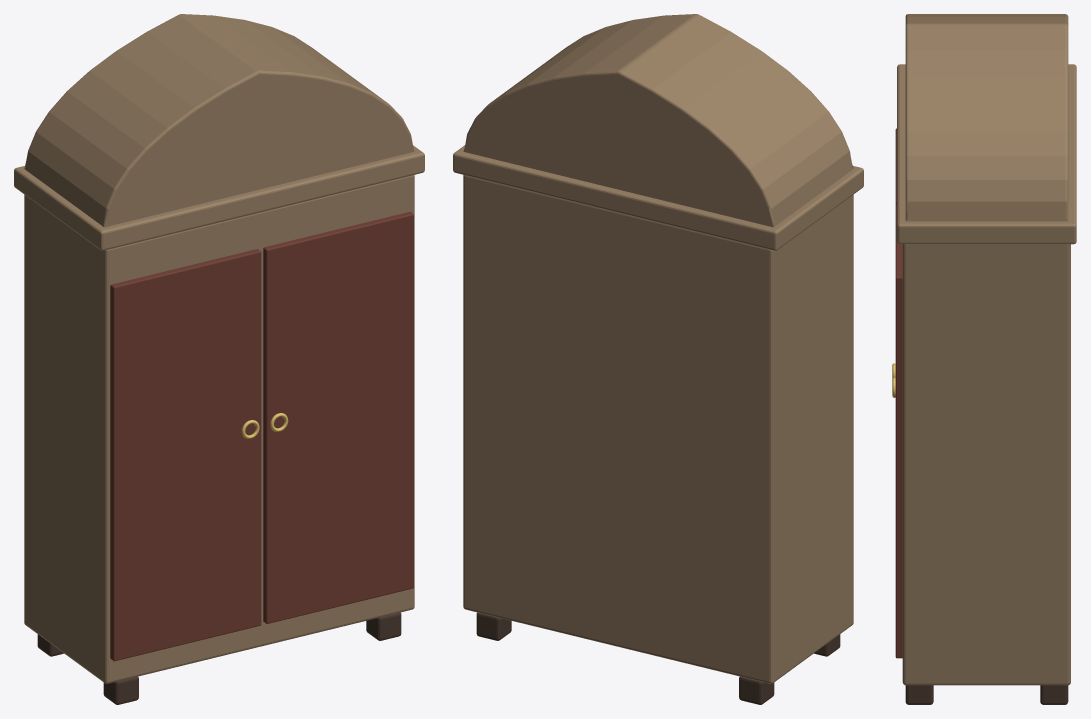
File: wardrobe_plain_tall.glb
The picture shows the model from 3 angles, left to right: view 1: azimuth 30°, elevation 25°; view 2: azimuth 150°, elevation 25°; view 3: azimuth 270°, elevation 25°; orthographic projection.
Visible parts, largest first — view 1: GD_wardrobe_plain_tall__m0, GD_wardrobe_plain_tall__m3, GD_wardrobe_plain_tall__m2; view 2: GD_wardrobe_plain_tall__m0, GD_wardrobe_plain_tall__m2; view 3: GD_wardrobe_plain_tall__m0, GD_wardrobe_plain_tall__m3, GD_wardrobe_plain_tall__m2.
Boxes of the visible parts, x1,y1,x2,y2 form: GD_wardrobe_plain_tall__m0: (14, 14, 424, 683); GD_wardrobe_plain_tall__m3: (110, 211, 413, 661); GD_wardrobe_plain_tall__m2: (37, 612, 401, 704); GD_wardrobe_plain_tall__m0: (453, 14, 863, 683); GD_wardrobe_plain_tall__m2: (476, 612, 840, 704); GD_wardrobe_plain_tall__m0: (897, 14, 1076, 685); GD_wardrobe_plain_tall__m3: (895, 128, 902, 658); GD_wardrobe_plain_tall__m2: (905, 685, 1068, 704).
Bounding box in the file's own units: 1.36 × 2.4 × 0.657.
